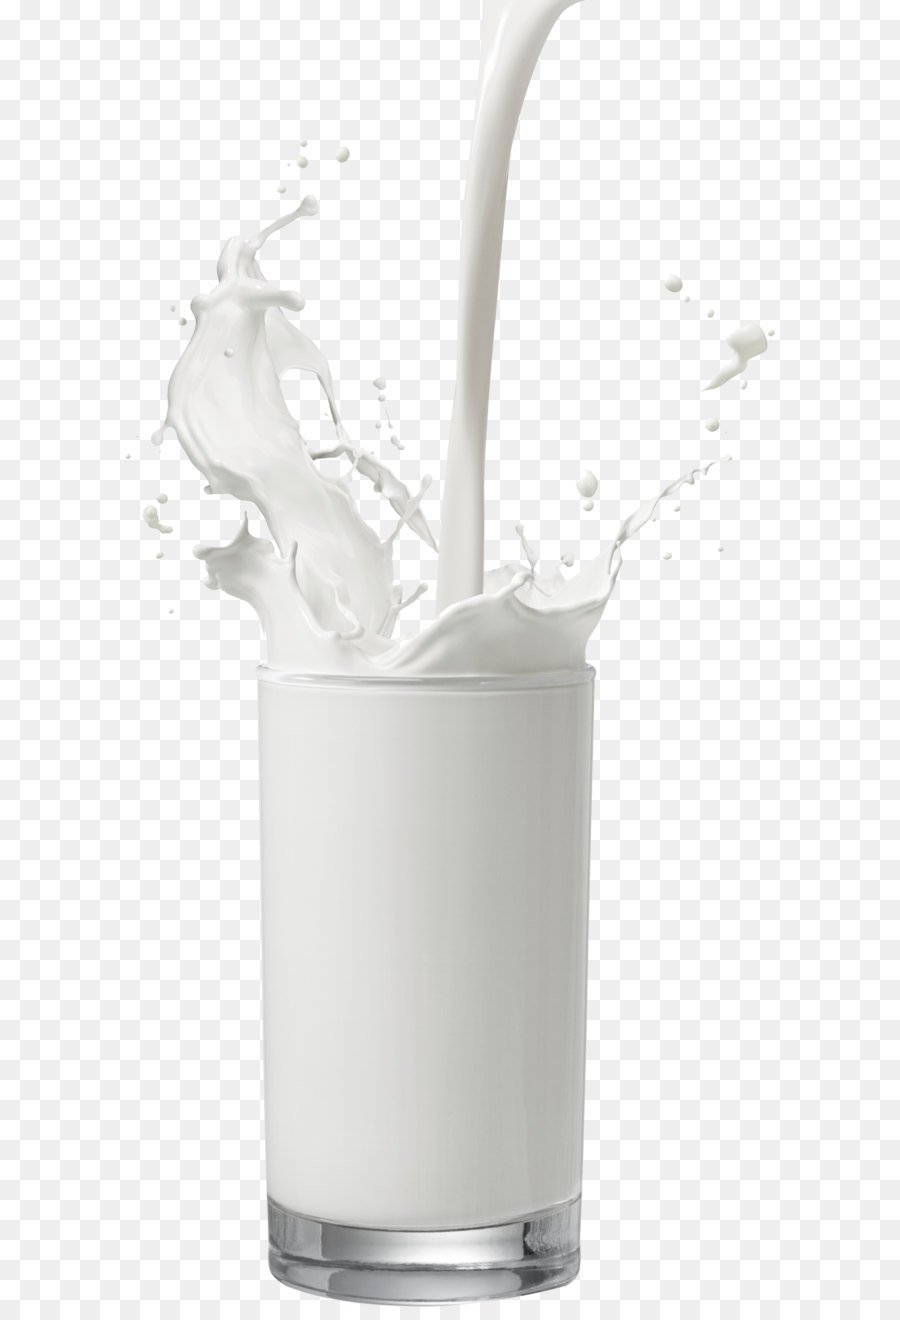glass of milk: (266, 624, 573, 1258)
